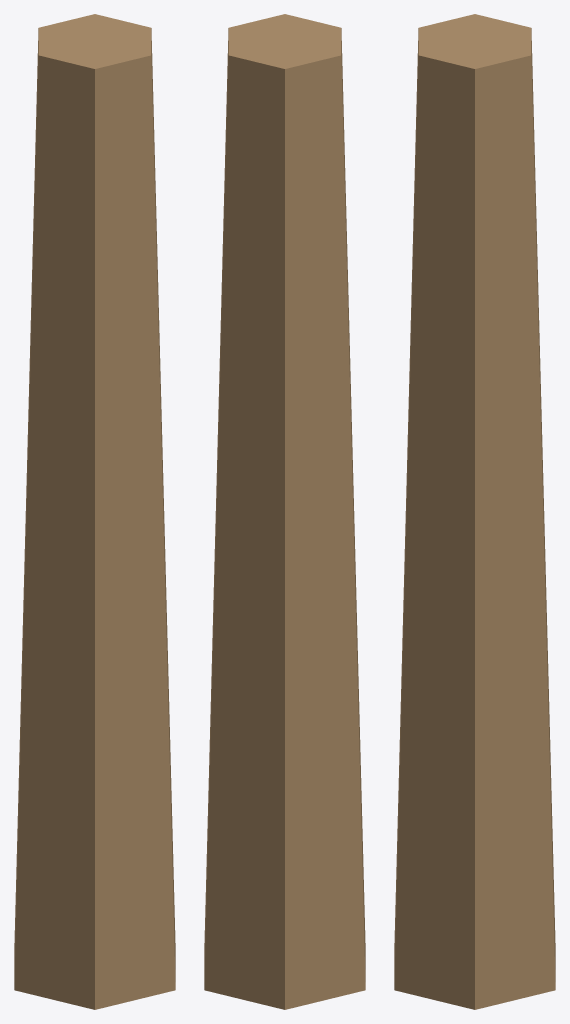
The model's file is prop-snuffer-handle-blank-cs2.fbx.
The picture shows the model from 3 angles, left to right: view 1: azimuth 30°, elevation 25°; view 2: azimuth 150°, elevation 25°; view 3: azimuth 270°, elevation 25°; orthographic projection.
Visible parts, largest first — view 1: prop-snuffer-handle-blank-cs2; view 2: prop-snuffer-handle-blank-cs2; view 3: prop-snuffer-handle-blank-cs2.
Boxes of the visible parts, box(x1,y1,x2,y2) form: prop-snuffer-handle-blank-cs2: box(14, 14, 175, 1009); prop-snuffer-handle-blank-cs2: box(204, 14, 365, 1009); prop-snuffer-handle-blank-cs2: box(394, 14, 555, 1009).
Size of the model in its own units: 2 by 11 by 1.73.
